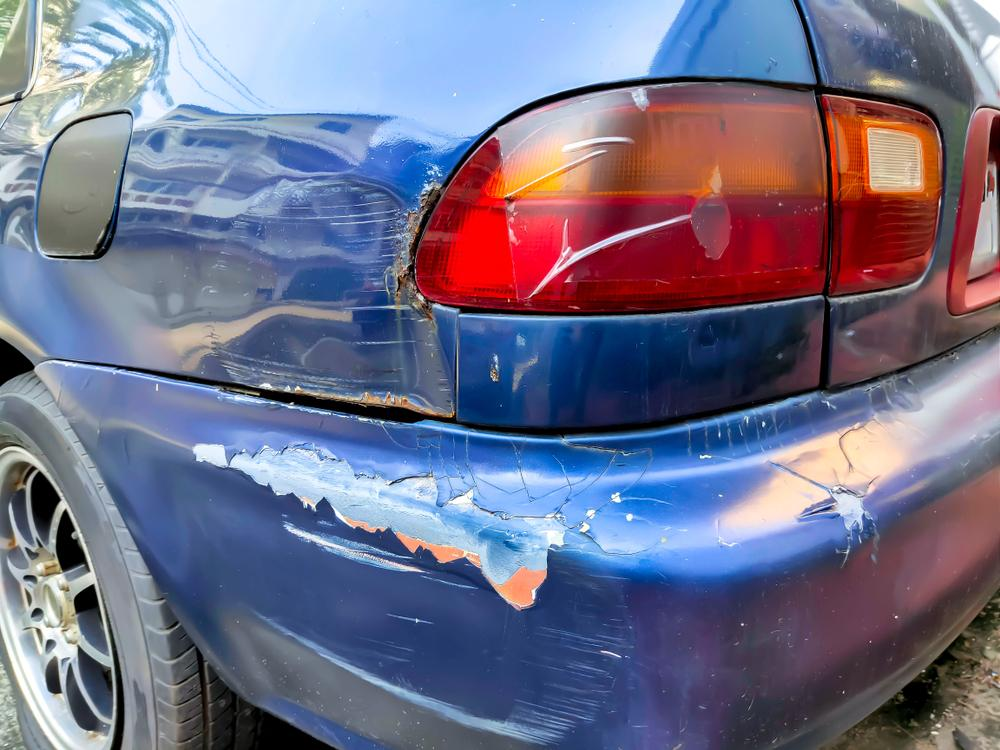dent: (187, 469, 613, 735), (205, 183, 455, 417)
scratch: (189, 431, 587, 611)
